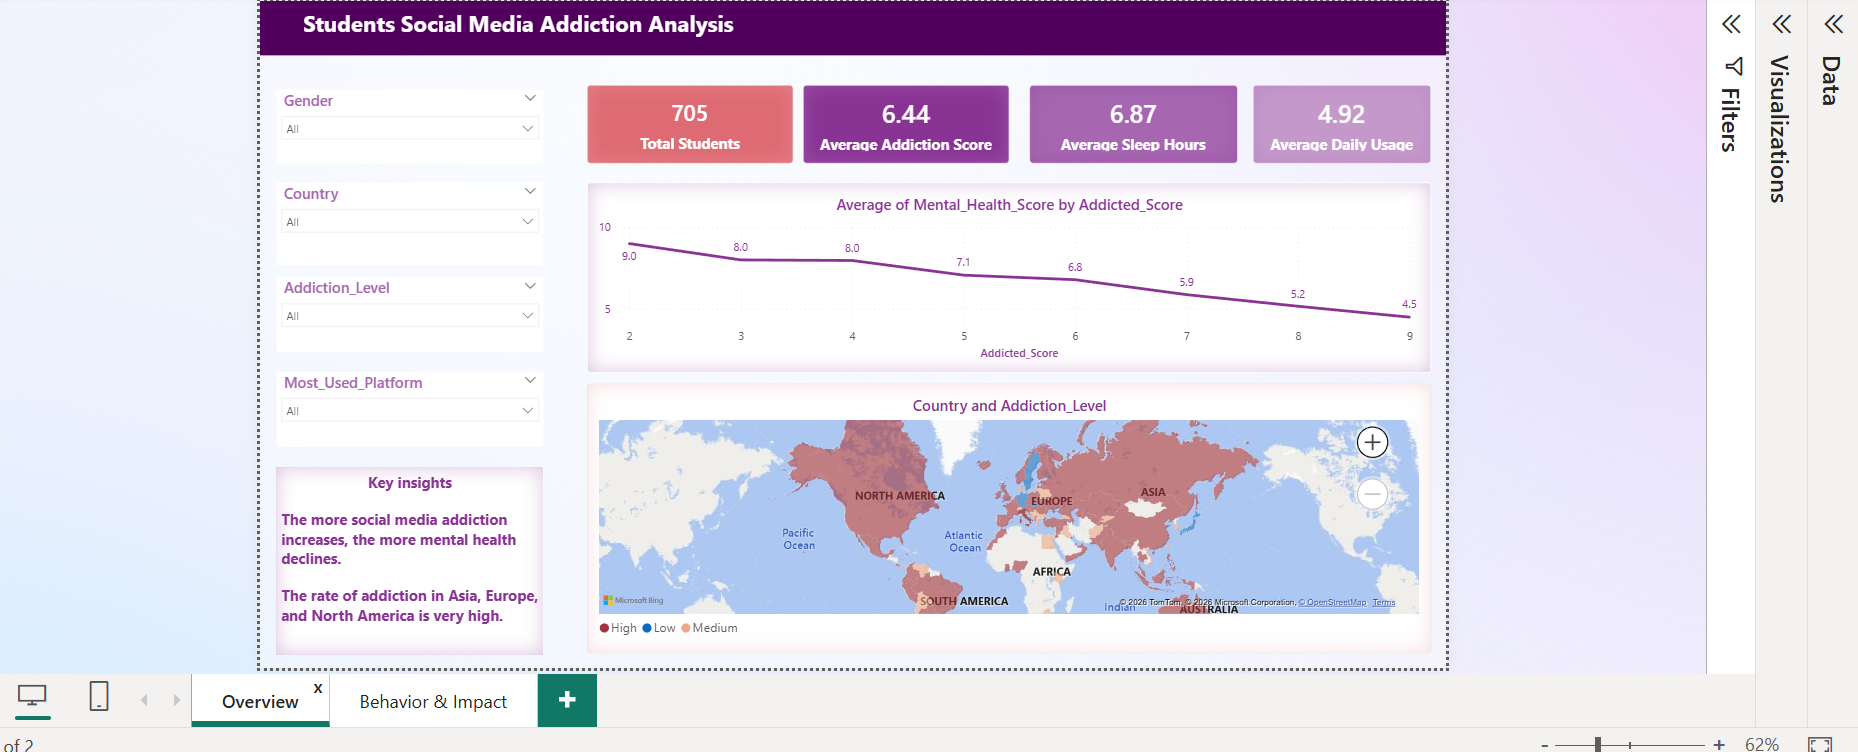

Layout of this report page (visuals, bound fields, positions):
{"tool":"powerbi","page":{"name":"Overview","canvas":[1280,720],"ordinal":0},"visuals":[{"type":"card","fields":{"Values":["Students Social Media Addiction.Total Students"]},"box":[353.1,91.1,222.9,84.6],"z":0},{"type":"card","fields":{"Values":["Students Social Media Addiction.Average Addiction Score"]},"box":[585.8,91.1,222.9,84.6],"z":1000},{"type":"card","fields":{"Values":["Students Social Media Addiction.Average Sleep Hours"]},"box":[831.5,91.1,224.5,84.6],"z":2000},{"type":"card","fields":{"Values":["Students Social Media Addiction.Average Daily Usage"]},"box":[1072.3,91.1,192,84.6],"z":3000},{"type":"filledMap","fields":{"Category":["Students Social Media Addiction.Country"],"Series":["Students Social Media Addiction.Addiction_Level"]},"box":[353.1,413.3,911.2,291.3],"z":4000},{"type":"slicer","fields":{"Values":["Students Social Media Addiction.Gender"]},"box":[17.9,96,288,79.7],"z":5000},{"type":"slicer","fields":{"Values":["Students Social Media Addiction.Country"]},"box":[17.9,195.3,288,89.5],"z":6000},{"type":"slicer","fields":{"Values":["Students Social Media Addiction.Most_Used_Platform"]},"box":[17.9,400.3,288,81.4],"z":7000},{"type":"slicer","fields":{"Values":["Students Social Media Addiction.Addiction_Level"]},"box":[17.9,297.8,288,81.4],"z":8000},{"type":"lineChart","fields":{"Y":["Avg(Students Social Media Addiction.Mental_Health_Score)"],"Category":["Students Social Media Addiction.Addicted_Score"]},"box":[353.1,195.3,911.2,205],"z":9000},{"type":"textbox","box":[0,0,1280.5,58.6],"z":10000},{"type":"textbox","box":[17.9,502.8,288,201.8],"z":11000}]}

Visuals, with their boxes on the page's 1280x720 design canvas (x1, y1, x2, y2). These are canvas units, not pixel positions in the 1858x752 screenshot, which may show the page scaled, cropped or inside an application window:
card - Students Social Media Addiction.Total Students: region(353, 91, 576, 176)
card - Students Social Media Addiction.Average Addiction Score: region(586, 91, 809, 176)
card - Students Social Media Addiction.Average Sleep Hours: region(832, 91, 1056, 176)
card - Students Social Media Addiction.Average Daily Usage: region(1072, 91, 1264, 176)
filledMap - Students Social Media Addiction.Country x Students Social Media Addiction.Addiction_Level: region(353, 413, 1264, 705)
slicer - Students Social Media Addiction.Gender: region(18, 96, 306, 176)
slicer - Students Social Media Addiction.Country: region(18, 195, 306, 285)
slicer - Students Social Media Addiction.Most_Used_Platform: region(18, 400, 306, 482)
slicer - Students Social Media Addiction.Addiction_Level: region(18, 298, 306, 379)
lineChart - Avg(Students Social Media Addiction.Mental_Health_Score) x Students Social Media Addiction.Addicted_Score: region(353, 195, 1264, 400)
textbox: region(0, 0, 1280, 59)
textbox: region(18, 503, 306, 705)
